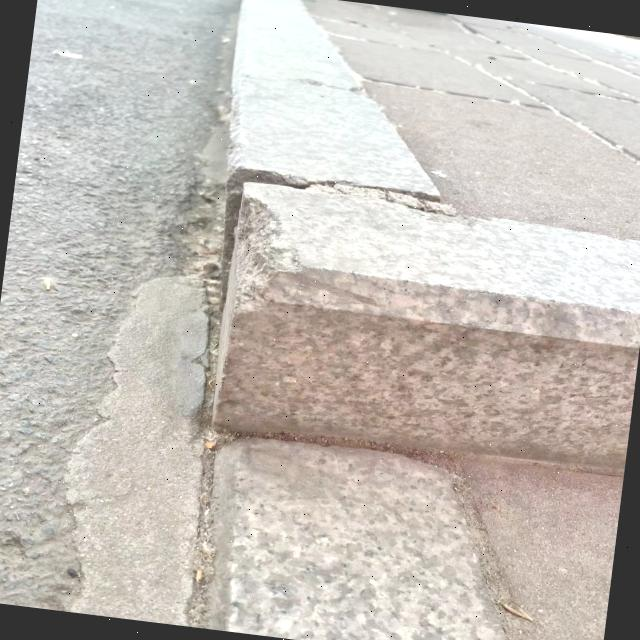curb: (201, 179, 640, 492), (200, 1, 463, 223)
